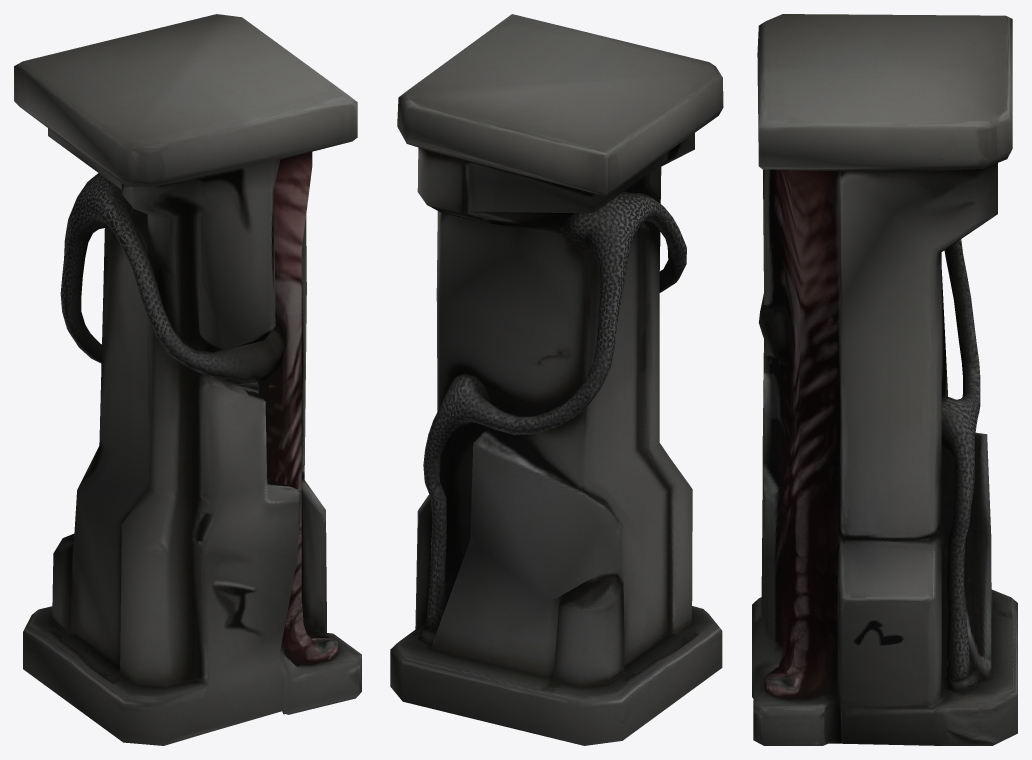
File: tripo_convert_b7a76b94-4b59-4a3f-93b3-4afc1de671bf.fbx
3 views of the same model, side by side, from view 1: azimuth 30°, elevation 25°; view 2: azimuth 150°, elevation 25°; view 3: azimuth 270°, elevation 25° (orthographic). The views are drawn at different scales.
Parts seen in each view (by area): view 1: tripo_node_b7a76b94; view 2: tripo_node_b7a76b94; view 3: tripo_node_b7a76b94.
Boxes of the visible parts, x1,y1,x2,y2 form: tripo_node_b7a76b94: [14, 14, 361, 745]; tripo_node_b7a76b94: [390, 14, 723, 745]; tripo_node_b7a76b94: [752, 14, 1017, 745].
Size of the model in its own units: 0.4082 by 0.998 by 0.3887.
Materials: 1 (1 with a texture image).
